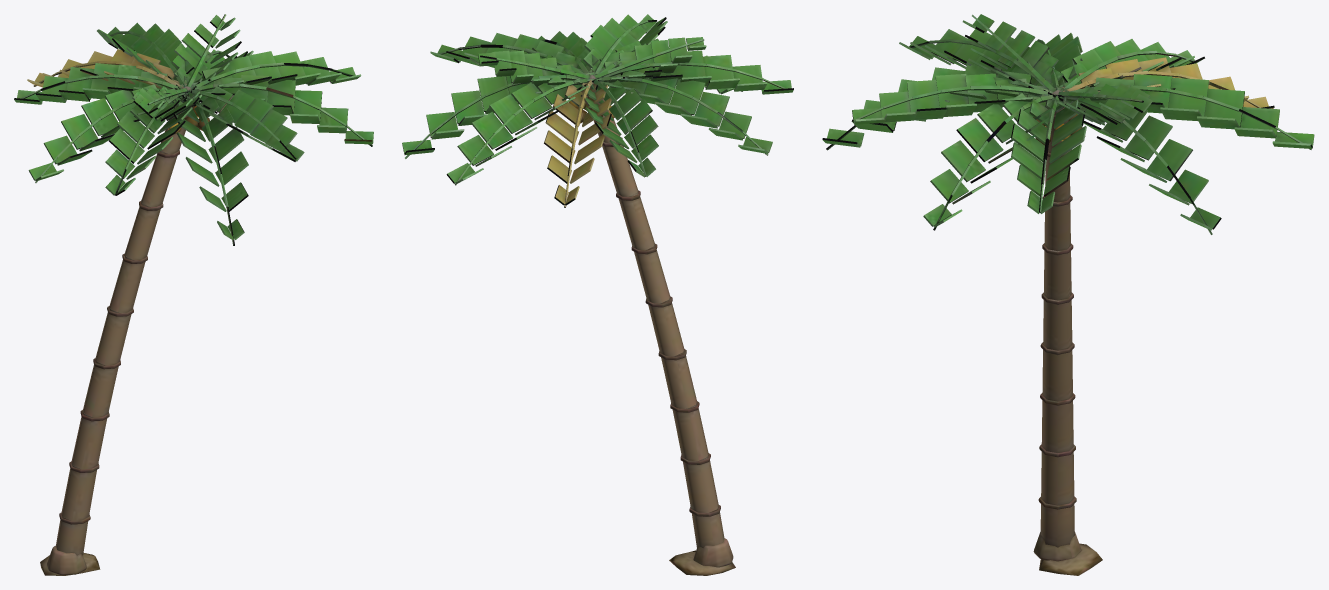
The model's file is palm_a.glb.
3 renders of one model, left to right at view 1: azimuth 30°, elevation 25°; view 2: azimuth 150°, elevation 25°; view 3: azimuth 270°, elevation 25°, orthographic. The views are drawn at different scales.
Parts seen in each view (by area): view 1: palm_a; view 2: palm_a; view 3: palm_a.
Part boxes in pixels (bbox=[...]): palm_a: bbox=[14, 14, 373, 575]; palm_a: bbox=[402, 14, 793, 575]; palm_a: bbox=[822, 14, 1314, 575].
Size of the model in its own units: 4.36 by 6.14 by 4.82.
1 material, 1 textured.
